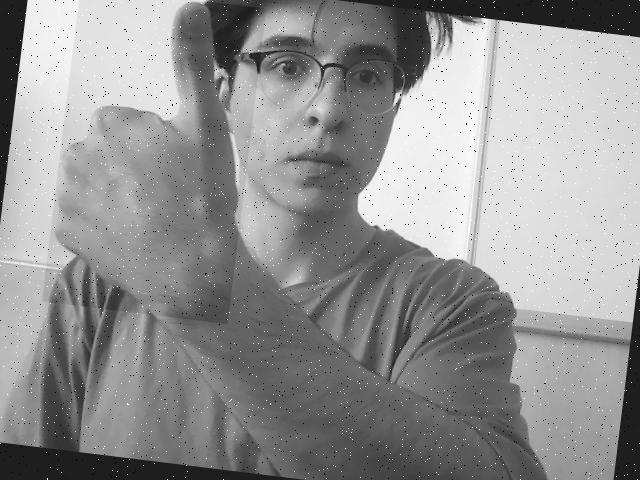good: (50, 0, 240, 315)
